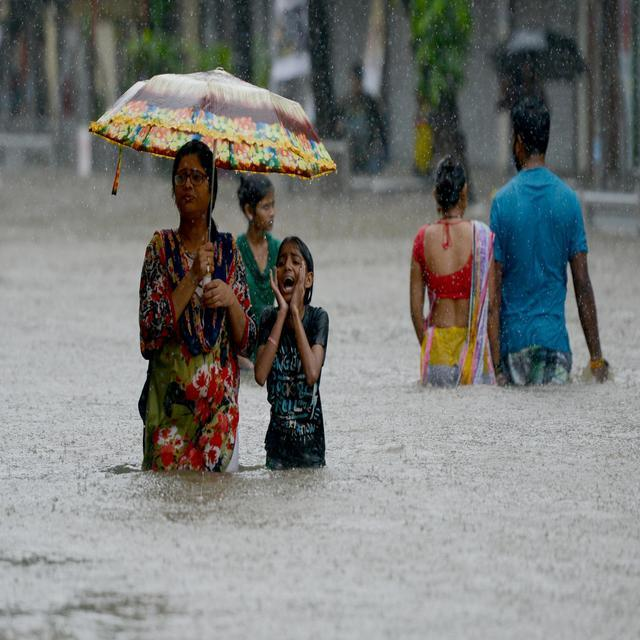Person-RiskLevel2: (486, 99, 630, 391), (137, 137, 247, 472), (395, 140, 505, 399), (251, 233, 352, 486), (234, 166, 304, 376)
